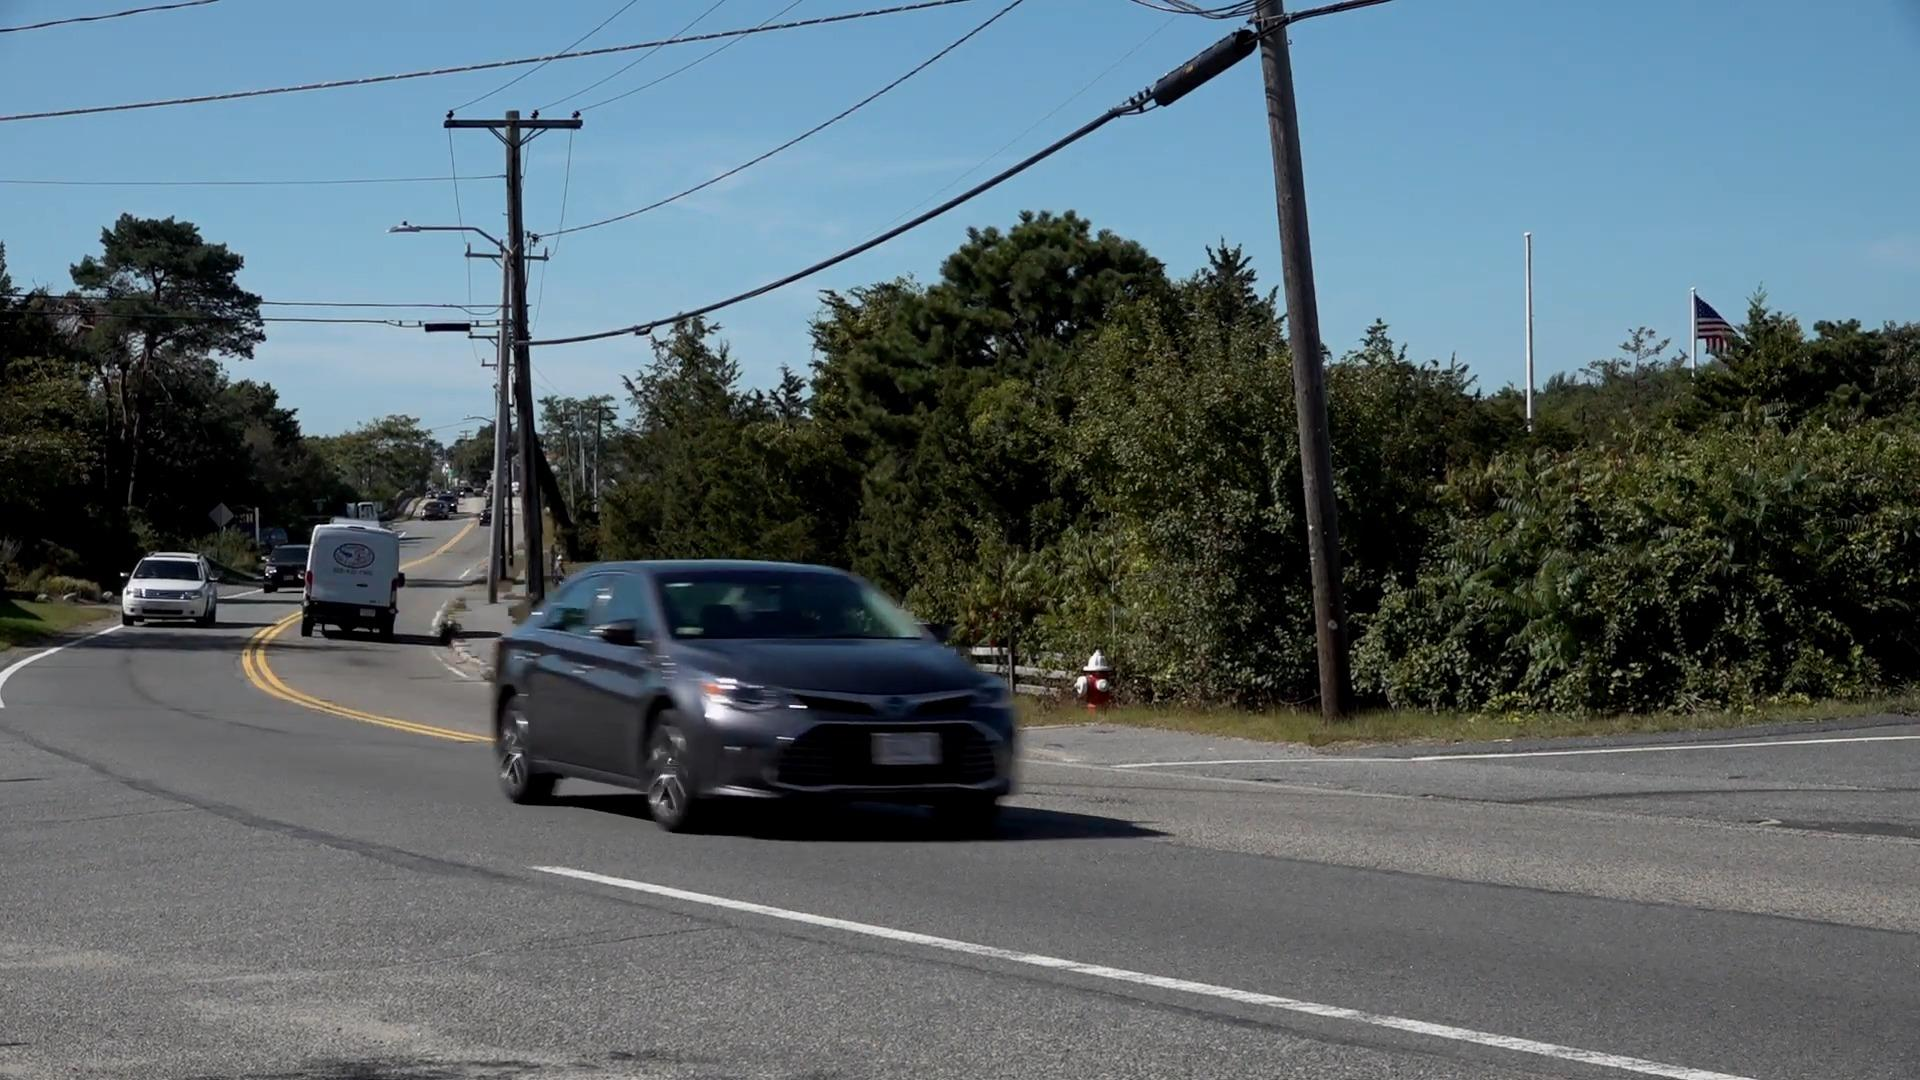minivan: (305, 525, 407, 643)
sedans: (490, 553, 1025, 827)
